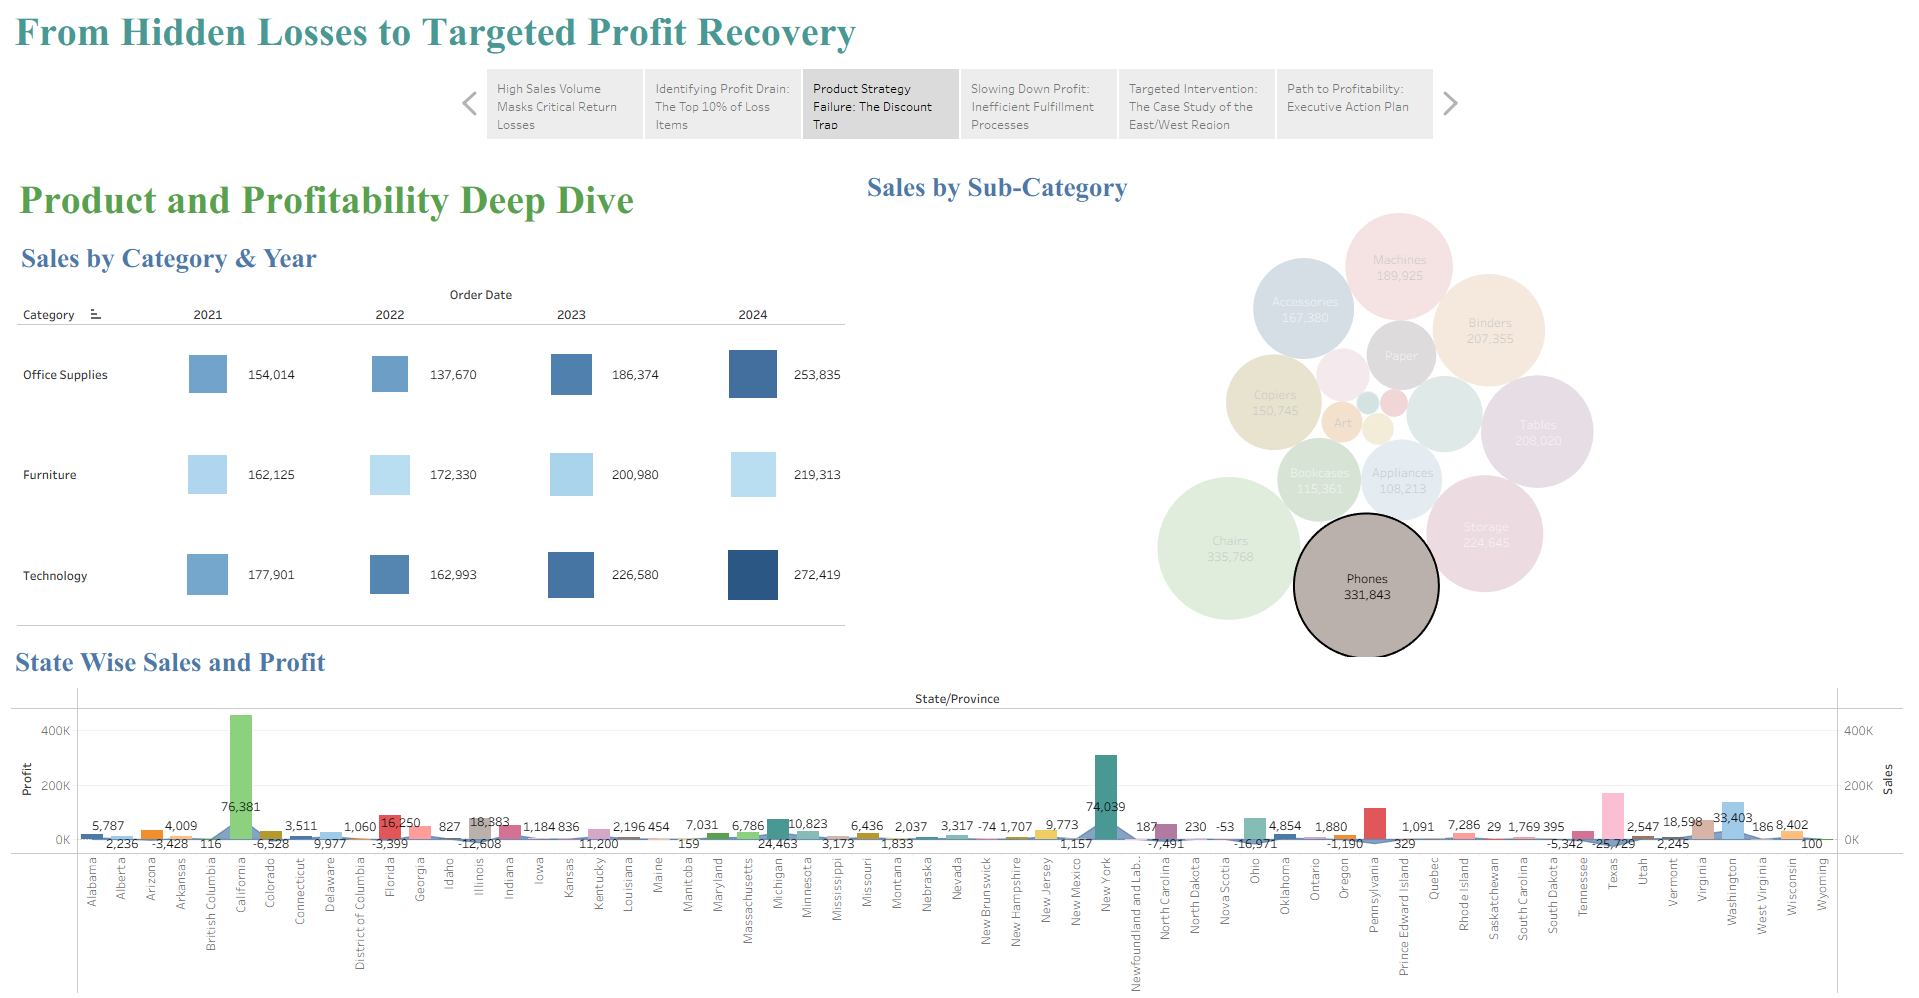

The dashboard page shown, as its layout file describes it:
{"tool":"tableau","page":{"name":"Product and Profitability Deep Dive","canvas":[1000,1000],"units":"permille","ordinal":2},"visuals":[{"type":"worksheet","title":"Sales by Sub-Category","mark":"Circle","box":[448.8,10.5,538.3,581.8]},{"type":"text","box":[4.1,12.8,371.6,71.3]},{"type":"worksheet","title":"Sales by Category & Year","mark":"Square","rows":["Category"],"cols":["Order Date"],"box":[4.7,95.8,434.8,460.3]},{"type":"worksheet","title":"Sales and Profit State Wise","mark":"Area","rows":["Profit","Sales"],"cols":["State/Province"],"box":[1.8,575.9,994.1,418.2]}]}

Visuals, with their boxes on the dashboard's canvas, which has no fixed pixel size, in thousandths of its width and height (x1, y1, x2, y2). These are canvas units, not pixel positions in the 1919x998 screenshot, which may show the page scaled, cropped or inside an application window:
"Sales by Sub-Category" worksheet (Circle marks): l=449, t=10, r=987, b=592
text: l=4, t=13, r=376, b=84
"Sales by Category & Year" worksheet (Square marks): l=5, t=96, r=440, b=556
"Sales and Profit State Wise" worksheet (Area marks): l=2, t=576, r=996, b=994
